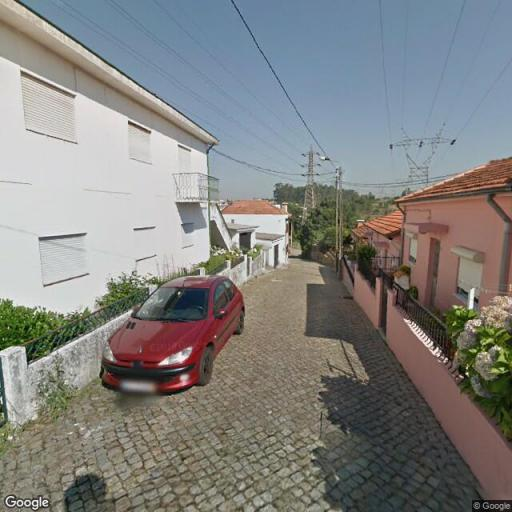ss_3: (298, 144, 324, 217)
wt_5: (385, 123, 455, 195)
